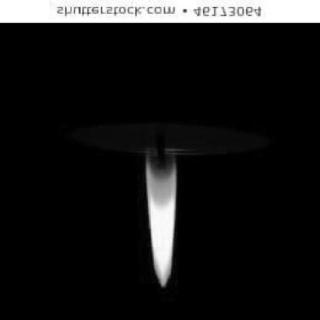Fire: (141, 133, 193, 284)
